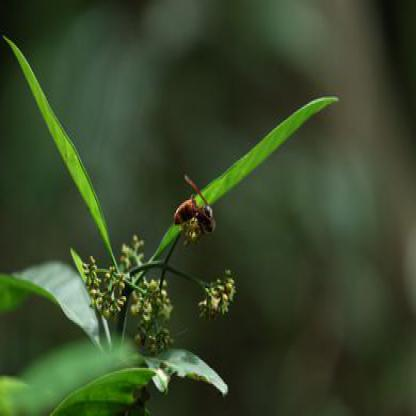Asian Hornet: (170, 170, 218, 244)
